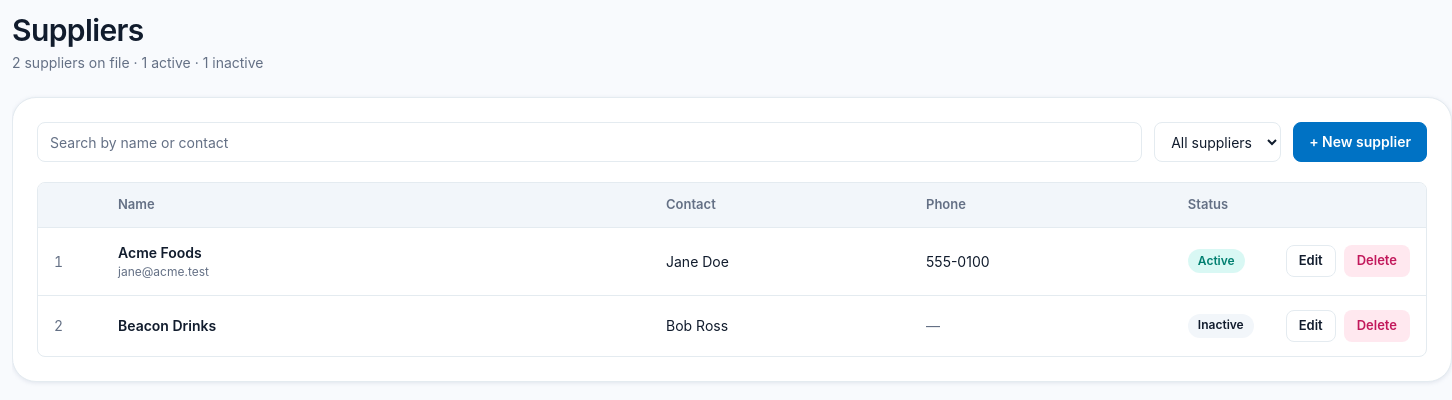
Test: SuppliersPage — search and status filter › filters by Active and Inactive status
Select "Active" in the dropdown named "Filter by supplier status": (1218,142) [1154,122,1281,162]
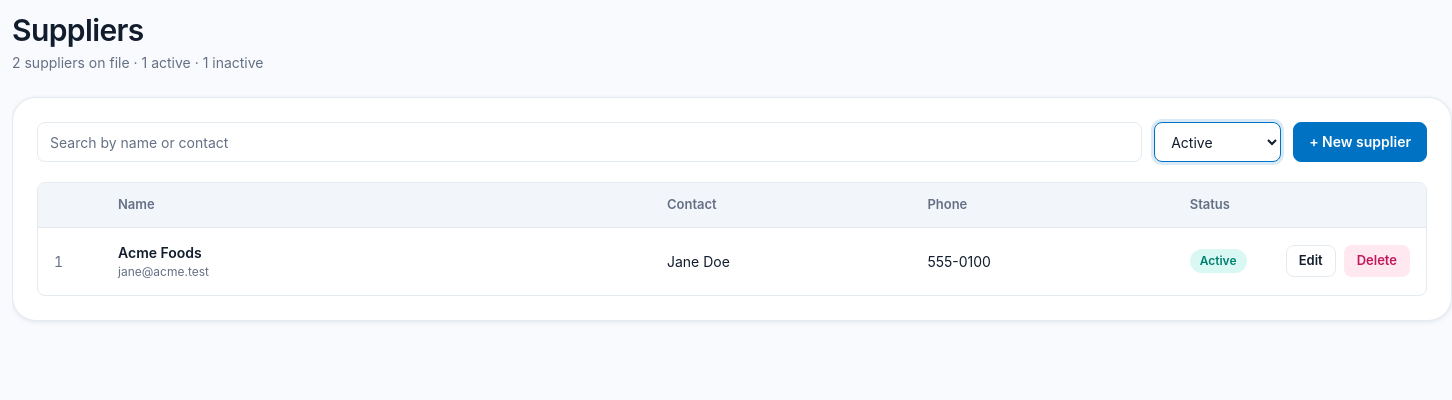
Expected: the text "Acme Foods" is shown, [118,244,202,260]
Expected: the text "Beacon Drinks" is gone
Select "Inactive" in the dropdown named "Filter by supplier status": (1218,142) [1154,122,1281,162]
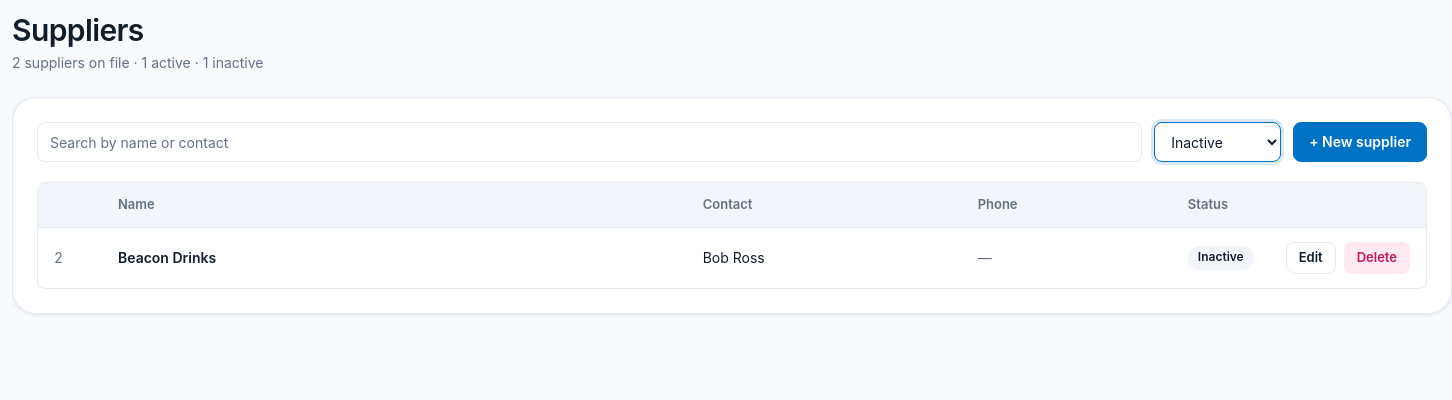
Expected: the text "Acme Foods" is gone
Expected: the text "Beacon Drinks" is shown, [118,249,216,266]
